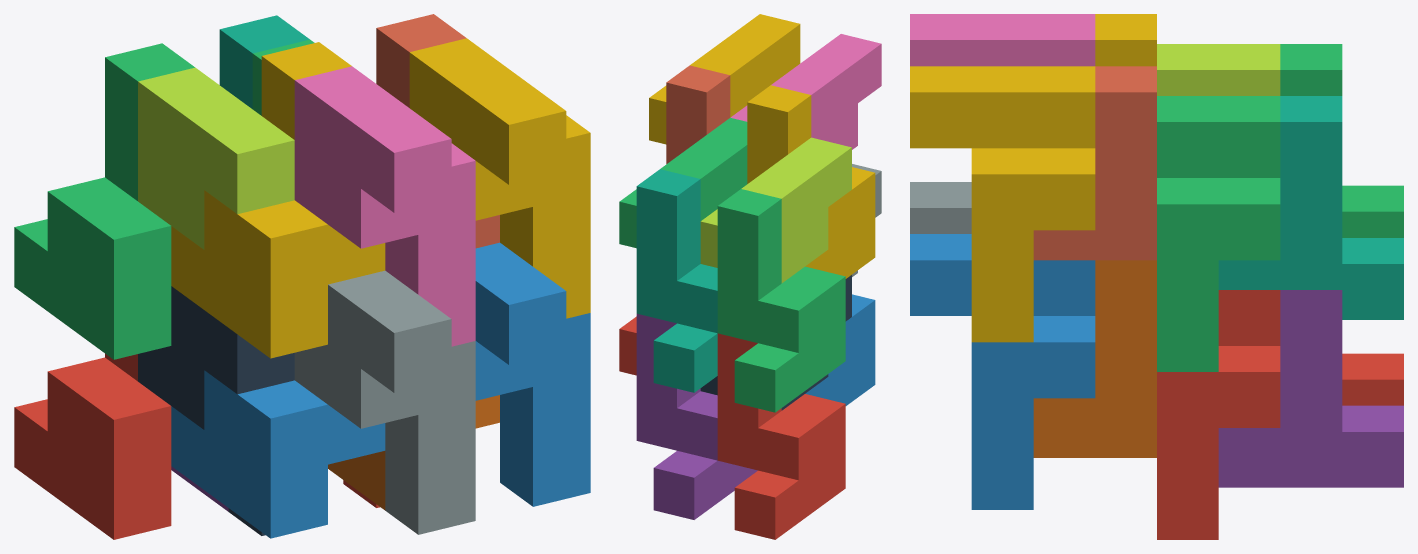
The model's file is tiling.obj.
The picture shows the model from 3 angles, left to right: view 1: azimuth 30°, elevation 25°; view 2: azimuth 150°, elevation 25°; view 3: azimuth 270°, elevation 25°; orthographic projection. The views are drawn at different scales.
Parts seen in each view (by area): view 1: copy_2_domain_4, copy_2_domain_2, copy_1_domain_3, copy_2_domain_8, copy_1_domain_4, copy_2_domain_6, copy_1_domain_1, copy_1_domain_2, copy_2_domain_3, copy_2_domain_1, copy_1_domain_8, copy_1_domain_7 (+2 smaller); view 2: copy_1_domain_3, copy_1_domain_1, copy_1_domain_7, copy_1_domain_5, copy_1_domain_4, copy_2_domain_3, copy_2_domain_4, copy_2_domain_8, copy_2_domain_7, copy_1_domain_8, copy_1_domain_2, copy_2_domain_5 (+2 smaller); view 3: copy_2_domain_8, copy_2_domain_7, copy_2_domain_6, copy_1_domain_5, copy_1_domain_7, copy_2_domain_5, copy_1_domain_6, copy_1_domain_8, copy_2_domain_4, copy_1_domain_3, copy_2_domain_3, copy_1_domain_1 (+2 smaller).
Part boxes in pixels (x1=…): copy_2_domain_4: x1=294, y1=66, x2=475, y2=346; copy_2_domain_2: x1=294, y1=270, x2=475, y2=534; copy_1_domain_3: x1=14, y1=43, x2=194, y2=359; copy_2_domain_8: x1=409, y1=38, x2=590, y2=318; copy_1_domain_4: x1=171, y1=42, x2=385, y2=358; copy_2_domain_6: x1=475, y1=242, x2=590, y2=506; copy_1_domain_1: x1=14, y1=353, x2=171, y2=539; copy_1_domain_2: x1=171, y1=370, x2=385, y2=538; copy_2_domain_3: x1=138, y1=67, x2=294, y2=249; copy_2_domain_1: x1=138, y1=286, x2=294, y2=535; copy_1_domain_8: x1=376, y1=14, x2=499, y2=248; copy_1_domain_7: x1=219, y1=15, x2=309, y2=108; copy_1_domain_3: x1=717, y1=189, x2=845, y2=412; copy_1_domain_1: x1=717, y1=333, x2=845, y2=539; copy_1_domain_7: x1=636, y1=169, x2=717, y2=392; copy_1_domain_5: x1=636, y1=313, x2=757, y2=519; copy_1_domain_4: x1=747, y1=85, x2=875, y2=278; copy_2_domain_3: x1=700, y1=137, x2=851, y2=283; copy_2_domain_4: x1=730, y1=34, x2=881, y2=149; copy_2_domain_8: x1=649, y1=14, x2=800, y2=144; copy_2_domain_7: x1=619, y1=117, x2=747, y2=248; copy_1_domain_8: x1=666, y1=65, x2=730, y2=163; copy_1_domain_2: x1=805, y1=294, x2=875, y2=405; copy_2_domain_5: x1=619, y1=316, x2=636, y2=375; copy_2_domain_8: x1=910, y1=66, x2=1095, y2=342; copy_2_domain_7: x1=1157, y1=96, x2=1280, y2=371; copy_2_domain_6: x1=910, y1=234, x2=1095, y2=509; copy_1_domain_5: x1=1218, y1=290, x2=1403, y2=487; copy_1_domain_7: x1=1218, y1=96, x2=1403, y2=319; copy_2_domain_5: x1=1157, y1=290, x2=1280, y2=539; copy_1_domain_6: x1=1033, y1=260, x2=1156, y2=457; copy_1_domain_8: x1=1033, y1=66, x2=1156, y2=260; copy_2_domain_4: x1=910, y1=14, x2=1095, y2=66; copy_1_domain_3: x1=1280, y1=44, x2=1403, y2=237; copy_2_domain_3: x1=1157, y1=44, x2=1280, y2=95; copy_1_domain_1: x1=1342, y1=353, x2=1403, y2=405.
Size of the model in its own units: 6 by 8 by 8.
